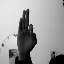f: (14, 7, 39, 55)
